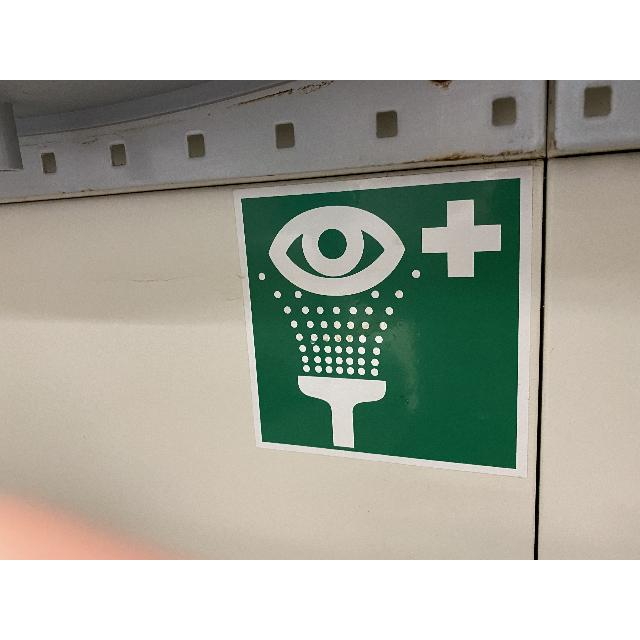eye shower: (257, 196, 511, 449)
